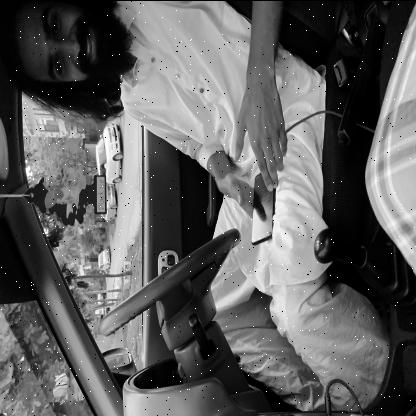no_seatbelt: (0, 0, 264, 150)
